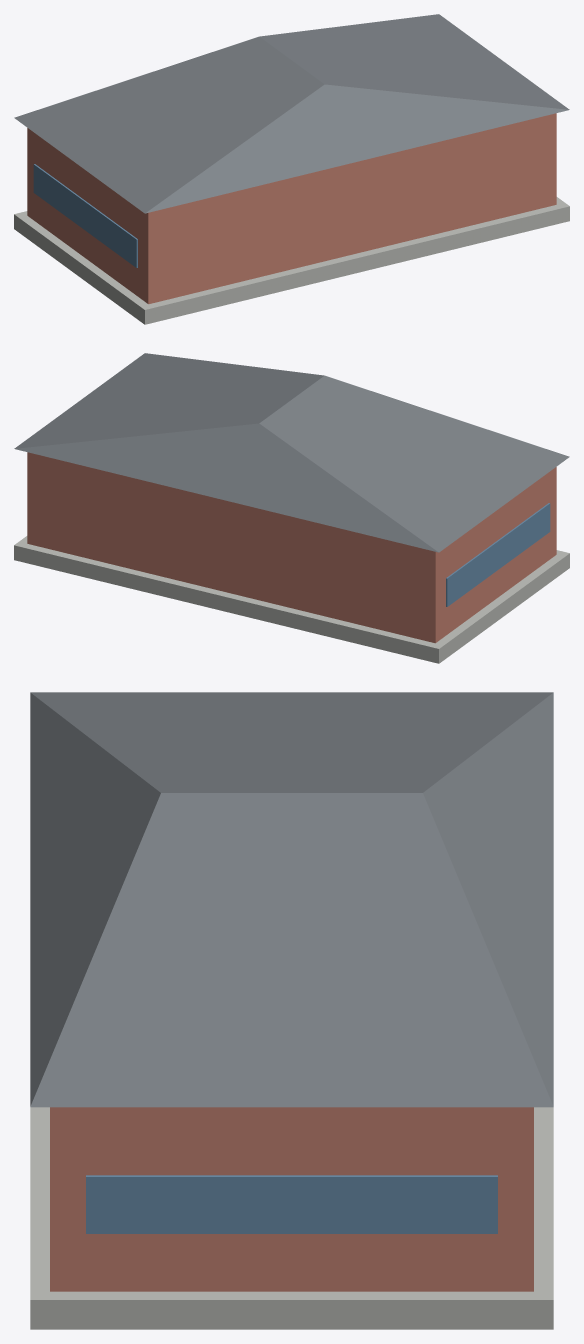
File: house_ranch_brick.glb
3 renders of one model, top to bottom at view 1: azimuth 30°, elevation 25°; view 2: azimuth 150°, elevation 25°; view 3: azimuth 270°, elevation 25°, orthographic. The views are drawn at different scales.
Parts seen in each view (by area): view 1: house_ranch_brick; view 2: house_ranch_brick; view 3: house_ranch_brick.
Boxes of the visible parts, x1,y1,x2,y2 form: house_ranch_brick: [14, 14, 569, 324]; house_ranch_brick: [14, 353, 569, 663]; house_ranch_brick: [30, 692, 553, 1329].
Size of the model in its own units: 15 by 5.55 by 8.
